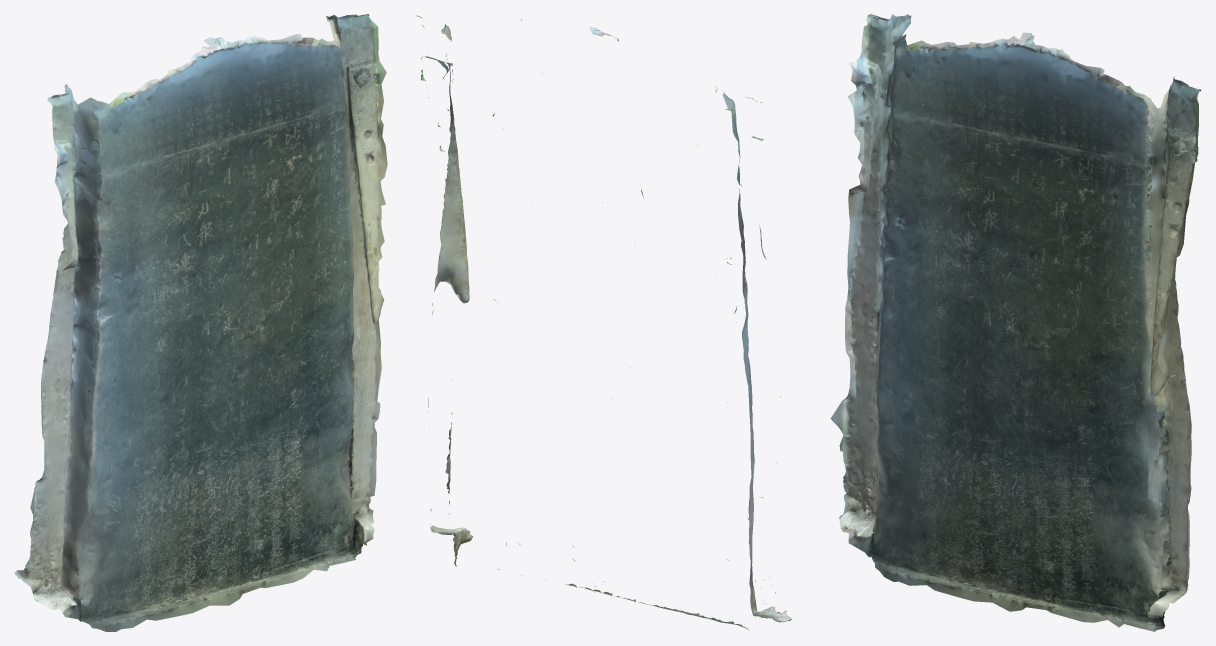
The model's file is duan-alliance-stele.glb.
3 views of the same model, side by side, from view 1: azimuth 30°, elevation 25°; view 2: azimuth 150°, elevation 25°; view 3: azimuth 330°, elevation 25° (orthographic). The views are drawn at different scales.
Visible parts, largest first — view 1: duan-alliance-stele; view 2: duan-alliance-stele; view 3: duan-alliance-stele.
Boxes of the visible parts, x1,y1,x2,y2 form: duan-alliance-stele: [14, 14, 387, 631]; duan-alliance-stele: [417, 15, 791, 630]; duan-alliance-stele: [830, 14, 1201, 631].
Size of the model in its own units: 8.08 by 11.89 by 1.43.
Materials: 1 (1 with a texture image).
